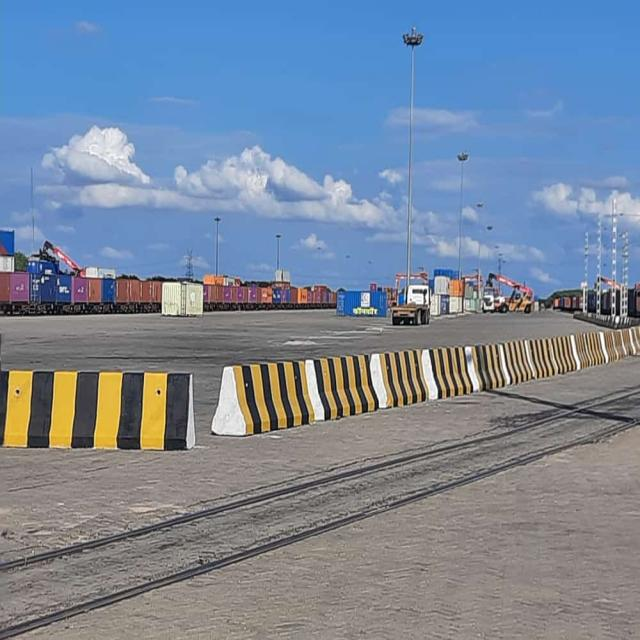Road-divider: (211, 322, 640, 452), (0, 354, 206, 460)
